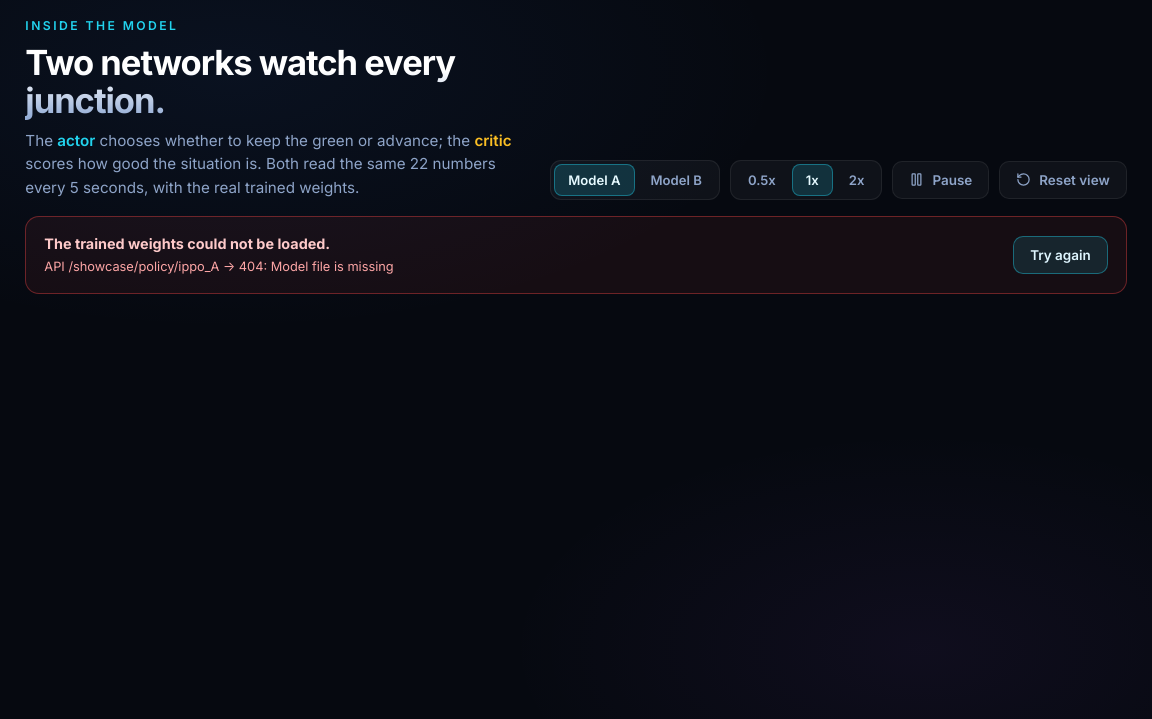
Test case: BrainPage › explains a failed load and retries
The width and height of the screenshot is (1152, 719).
Expected: the message shows "Model file is missing", [44,259,394,274]
Click the button "Try again": (1060, 255) [1013,236,1108,274]
(page scrolled)
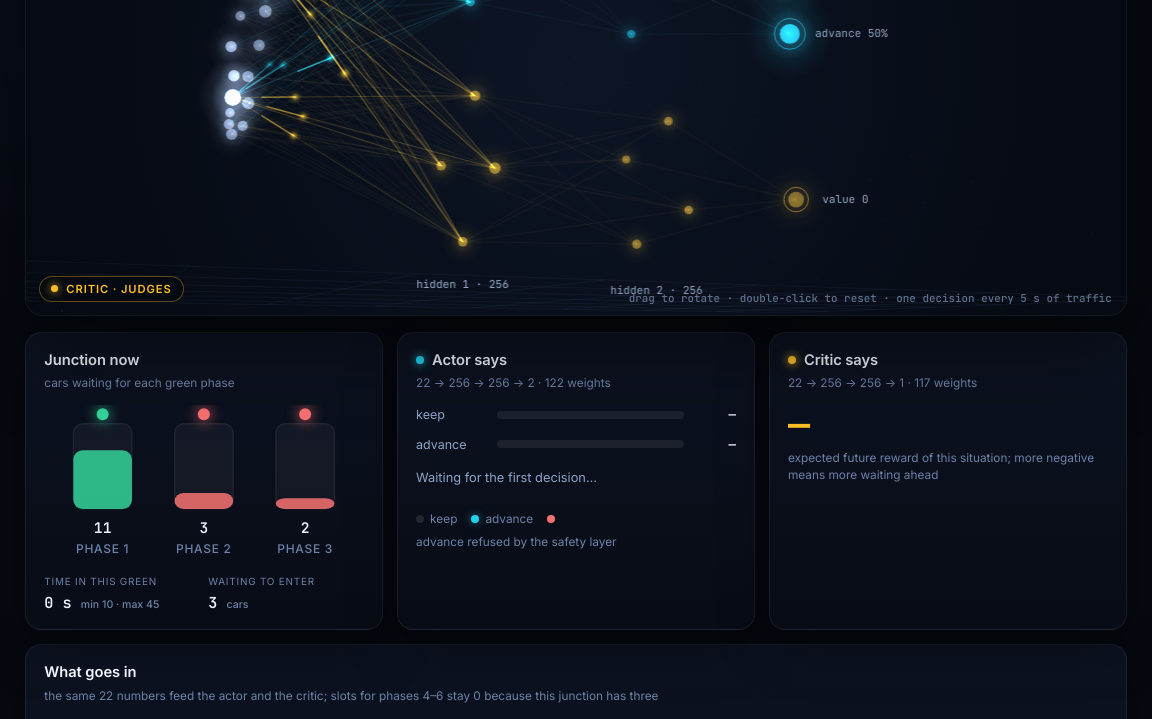
Expected: the heading "Actor says" is shown, [416,351,507,369]
